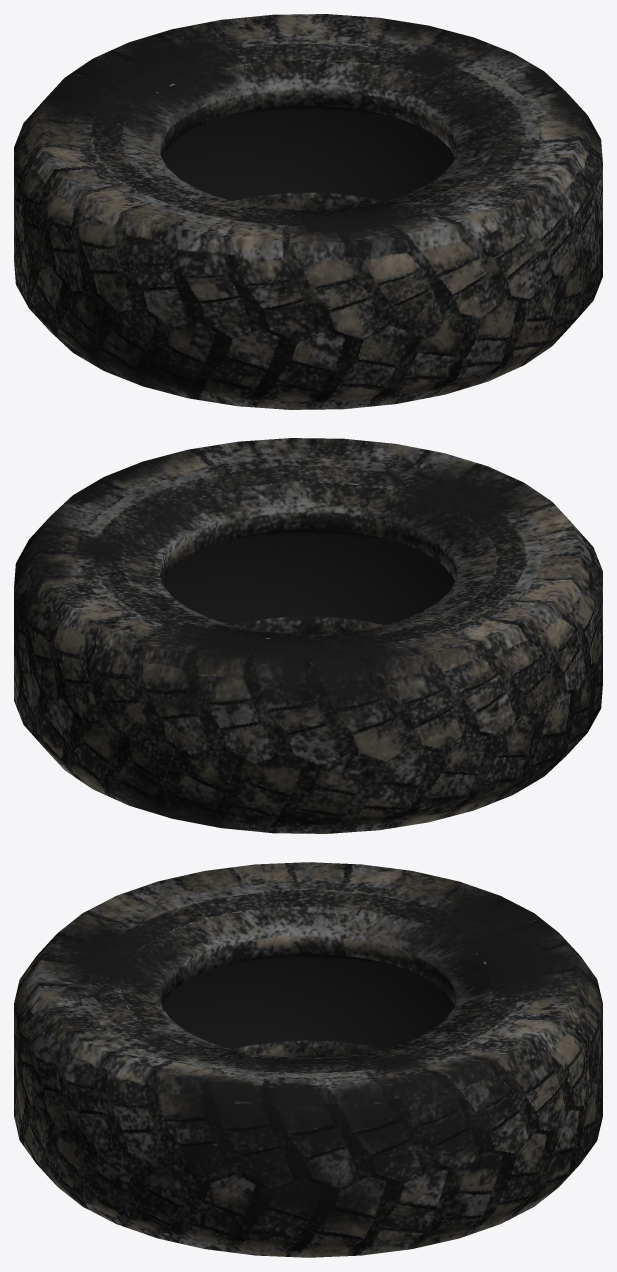
Rendered from weel_2.fbx.
The picture shows the model from 3 angles, top to bottom: view 1: azimuth 30°, elevation 25°; view 2: azimuth 150°, elevation 25°; view 3: azimuth 270°, elevation 25°; orthographic projection.
Visible parts, largest first — view 1: wheel_2_LOD0; view 2: wheel_2_LOD0; view 3: wheel_2_LOD0.
Part boxes in pixels (<box>): wheel_2_LOD0: <box>14,14,602,409</box>; wheel_2_LOD0: <box>14,438,602,833</box>; wheel_2_LOD0: <box>14,862,602,1257</box>.
Size of what is drawn, in the model's own units: 62.59 by 19.48 by 62.59.
